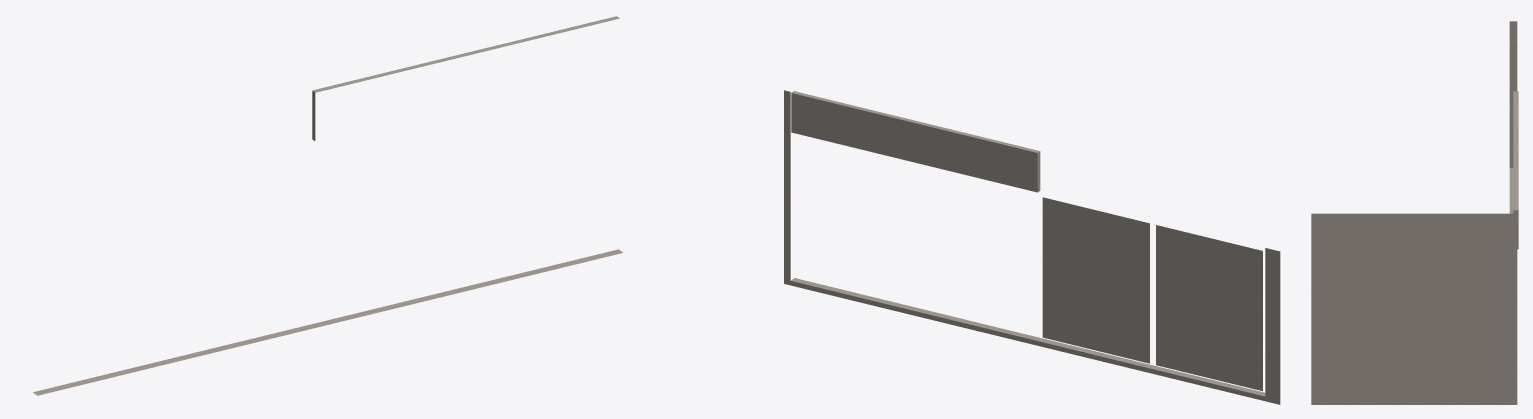
Rendered from kd_stage_135c43_4_81.glb.
The picture shows the model from 3 angles, left to right: view 1: azimuth 30°, elevation 25°; view 2: azimuth 150°, elevation 25°; view 3: azimuth 270°, elevation 25°; orthographic projection. The views are drawn at different scales.
Visible parts, largest first — view 1: kd_stage_135c43_4_81; view 2: kd_stage_135c43_4_81; view 3: kd_stage_135c43_4_81.
Boxes of the visible parts, x1,y1,x2,y2 form: kd_stage_135c43_4_81: (33, 16, 623, 395); kd_stage_135c43_4_81: (784, 90, 1280, 404); kd_stage_135c43_4_81: (1311, 21, 1518, 404).
Size of the model in its own units: 2.2 by 0.82 by 0.8046.
1 material, 1 textured.
